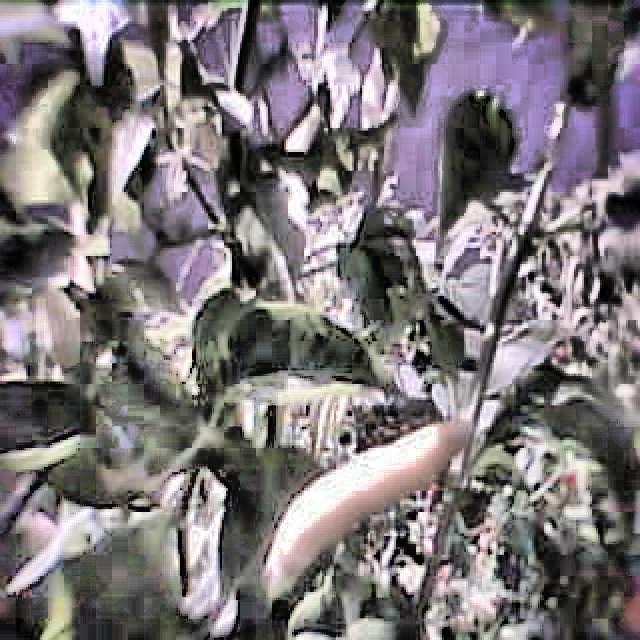Cabai: (271, 417, 468, 609)
